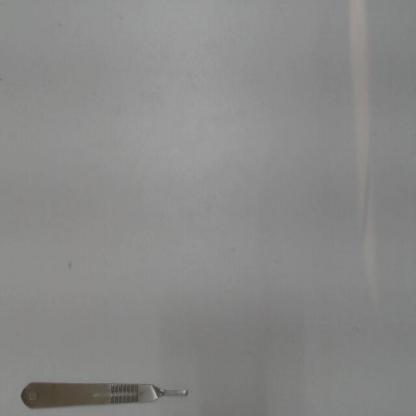No.3 BP Handle: (13, 369, 190, 409)
